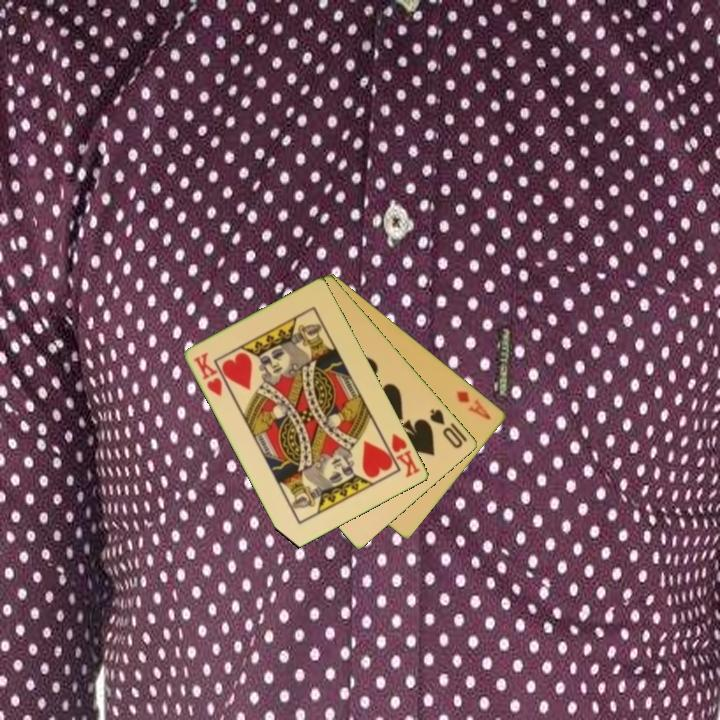10s: (426, 405, 466, 451)
Ad: (453, 387, 495, 423)
Kh: (379, 430, 423, 481), (190, 349, 226, 399)
